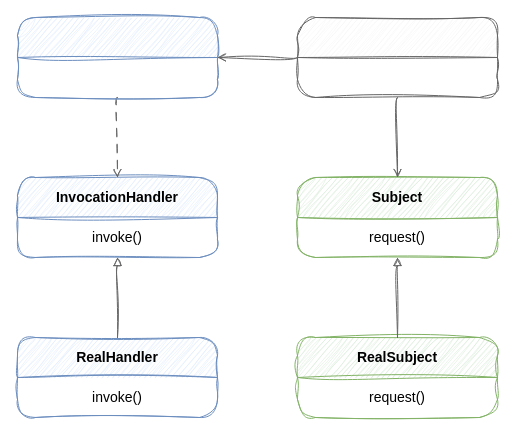
Some shapes in this 515 by 435 pixel diagram are drawn without their labels. Here are the shapes that lost their labels. From the top down, the centre of each, then its label:
the point at 117,57: DynamicProxy
the point at 397,57: Client
